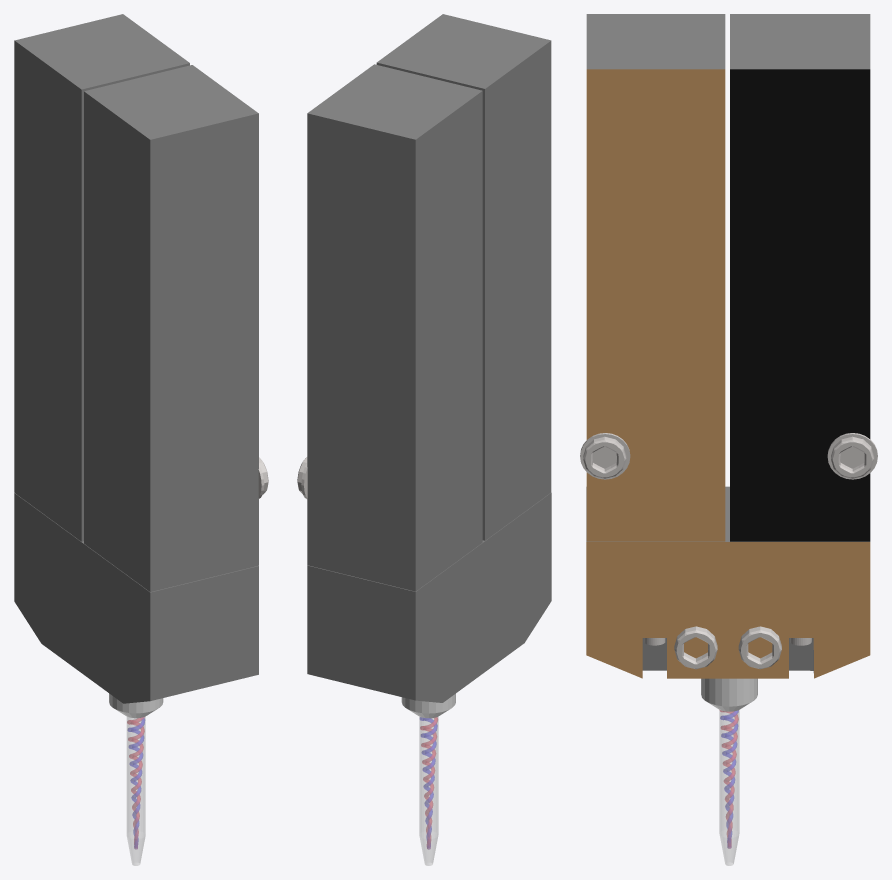
The model's file is printerhead1.gltf.
The picture shows the model from 3 angles, left to right: view 1: azimuth 30°, elevation 25°; view 2: azimuth 150°, elevation 25°; view 3: azimuth 270°, elevation 25°; orthographic projection. The views are drawn at different scales.
Parts seen in each view (by area): view 1: Cube, Tip, Cylinder.007, SpiralRed, SpiralBlue; view 2: Cube, Tip, Cylinder.007, SpiralRed, SpiralBlue; view 3: Cube, Tip, Cylinder.007, Cylinder, Cylinder.001, Cylinder.003, Cylinder.002, Cylinder.004, Cylinder.005, SpiralBlue, SpiralRed.
Boxes of the visible parts, x1,y1,x2,y2 form: Cube: (14, 14, 258, 703); Tip: (127, 717, 145, 865); Cylinder.007: (109, 693, 163, 718); SpiralRed: (127, 717, 144, 848); SpiralBlue: (128, 718, 144, 848); Cube: (307, 14, 551, 702); Tip: (419, 717, 438, 865); Cylinder.007: (401, 693, 455, 718); SpiralRed: (420, 717, 437, 848); SpiralBlue: (420, 717, 437, 848); Cube: (586, 14, 870, 678); Tip: (719, 710, 739, 865); Cylinder.007: (701, 678, 757, 711); Cylinder: (674, 626, 717, 669); Cylinder.001: (738, 626, 781, 669); Cylinder.003: (583, 436, 626, 478); Cylinder.002: (831, 436, 874, 478); Cylinder.004: (827, 433, 877, 479); Cylinder.005: (580, 433, 630, 479); SpiralBlue: (720, 710, 738, 847); SpiralRed: (720, 710, 738, 848).
Bounding box in the file's own units: 1.24 × 7.94 × 2.6.
